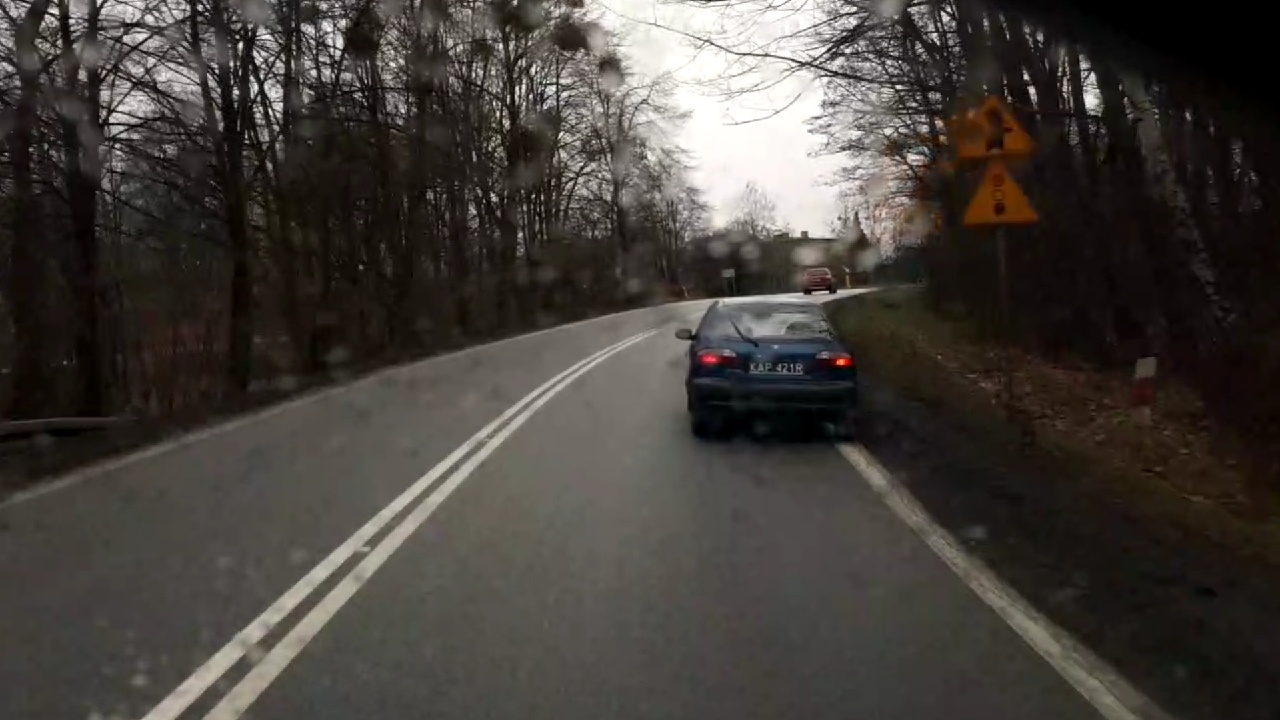A29: (945, 89, 1050, 161), (954, 162, 1049, 231)
